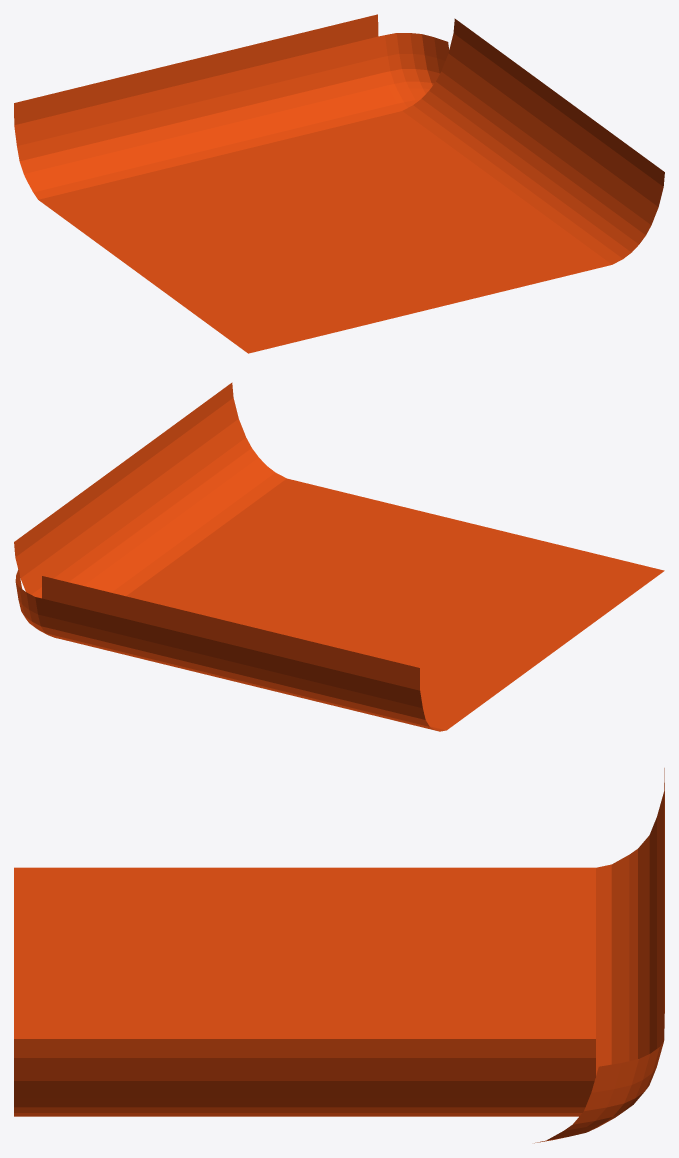
Rendered from TitleRamp.fbx.
3 renders of one model, top to bottom at view 1: azimuth 30°, elevation 25°; view 2: azimuth 150°, elevation 25°; view 3: azimuth 270°, elevation 25°, orthographic. The views are drawn at different scales.
Parts seen in each view (by area): view 1: Plane; view 2: Plane; view 3: Plane.
Part boxes in pixels (<box>): Plane: <box>14,14,664,353</box>; Plane: <box>14,382,664,731</box>; Plane: <box>14,768,664,1143</box>.
Bounding box in the file's own units: 4342 × 796 × 4244.
